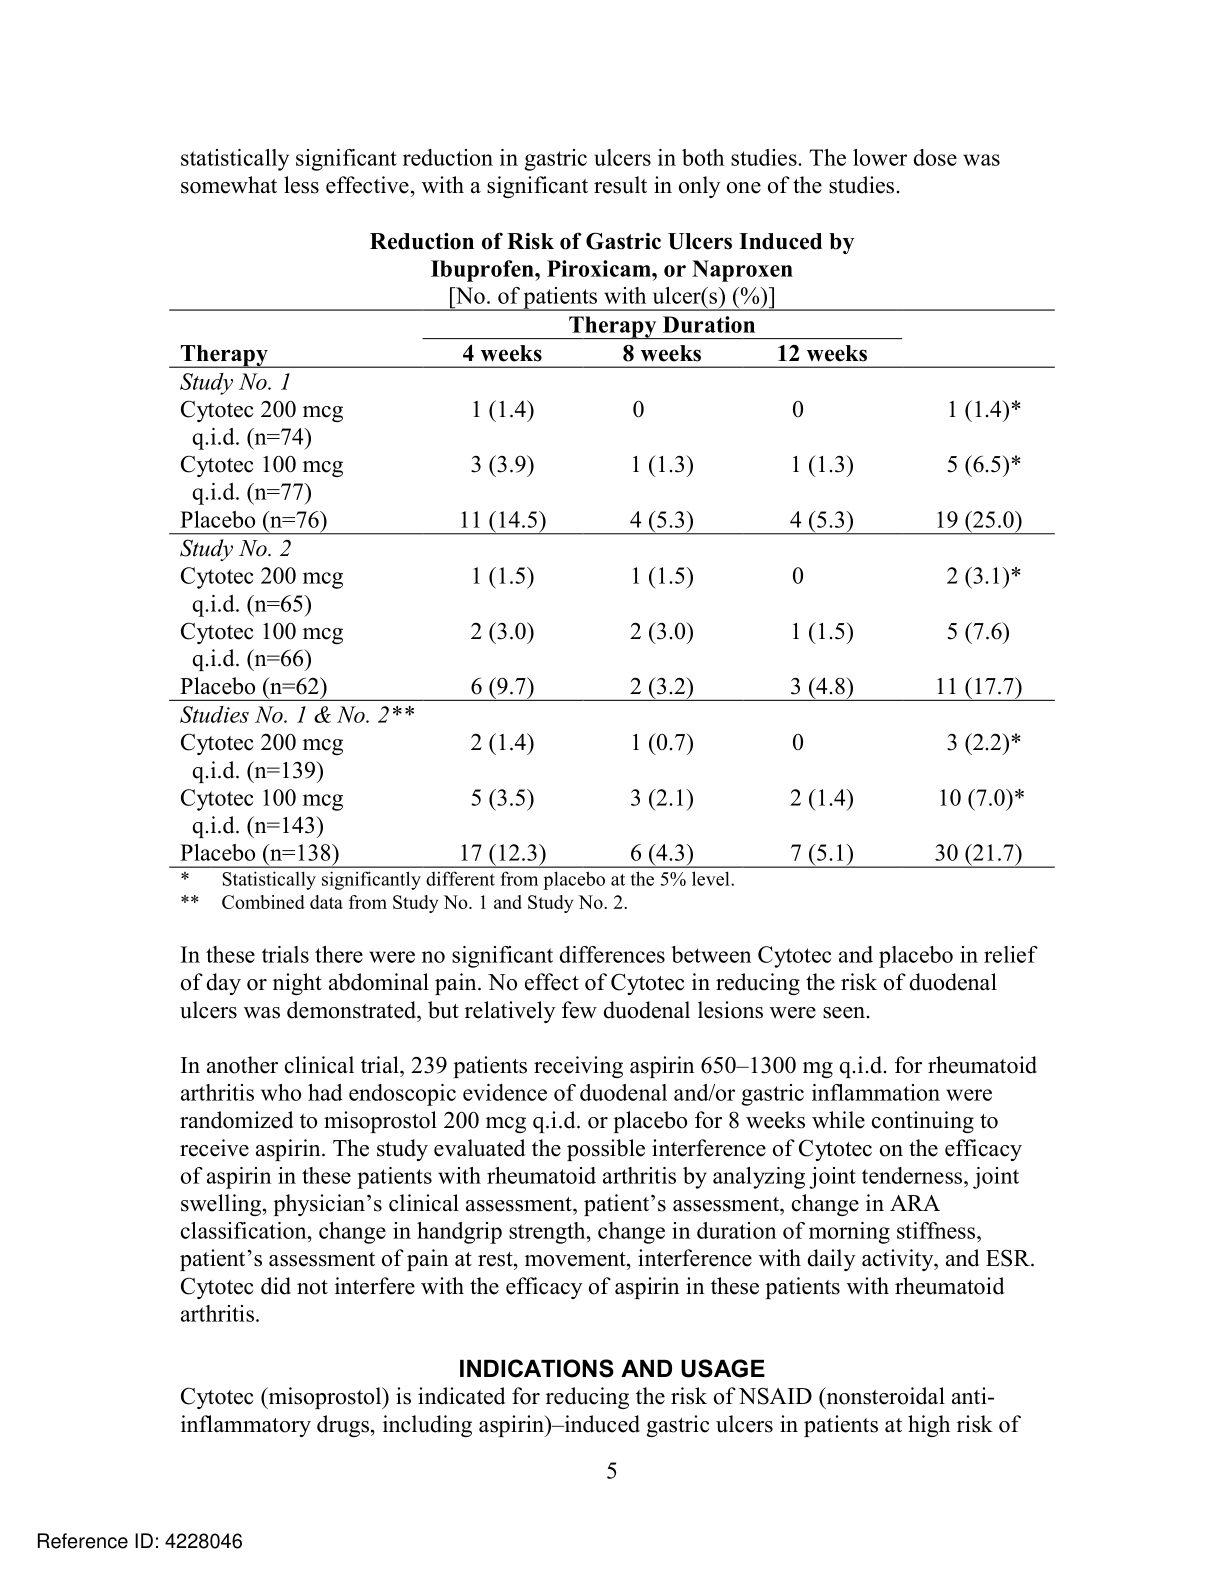partial_lined_merged_cells: (163, 217, 1058, 870)
